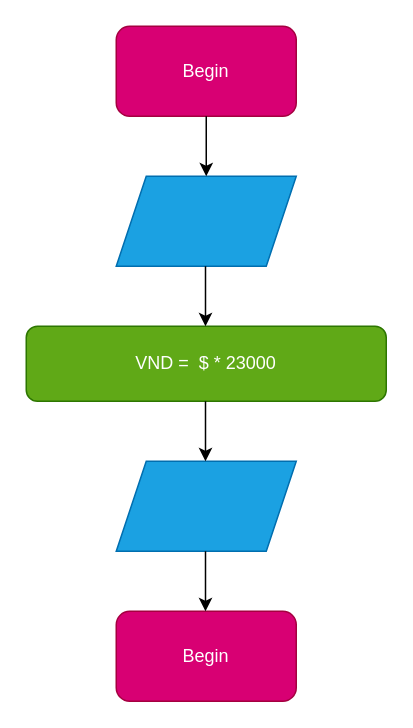
Some shapes in this 413 by 728 pixel diagram are drawn without their labels. The shapes that lost their labels are listed below. From the top down, each one's box as (x1, y1, x2, y2) in pixels, then its label:
(115, 175, 296, 266): Input $ , VND=0
(115, 460, 296, 551): Display VND
